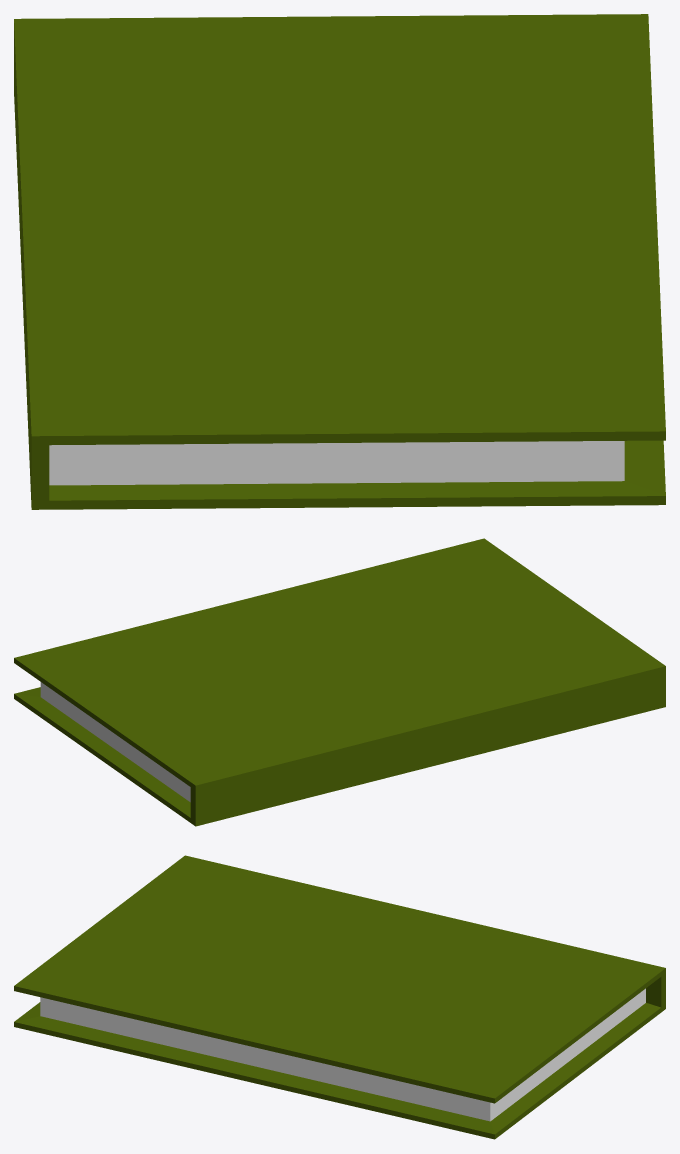
File: Libro.fbx
3 views of the same model, one above another, from view 1: azimuth 30°, elevation 25°; view 2: azimuth 150°, elevation 25°; view 3: azimuth 270°, elevation 25° (orthographic). The views are drawn at different scales.
Parts seen in each view (by area): view 1: Cubo.1939; view 2: Cubo.1939; view 3: Cubo.1939.
Part boxes in pixels (<box>): Cubo.1939: <box>14,14,665,509</box>; Cubo.1939: <box>14,538,665,826</box>; Cubo.1939: <box>14,855,665,1139</box>.
Size of the model in its own units: 19.82 by 1.56 by 22.46.
